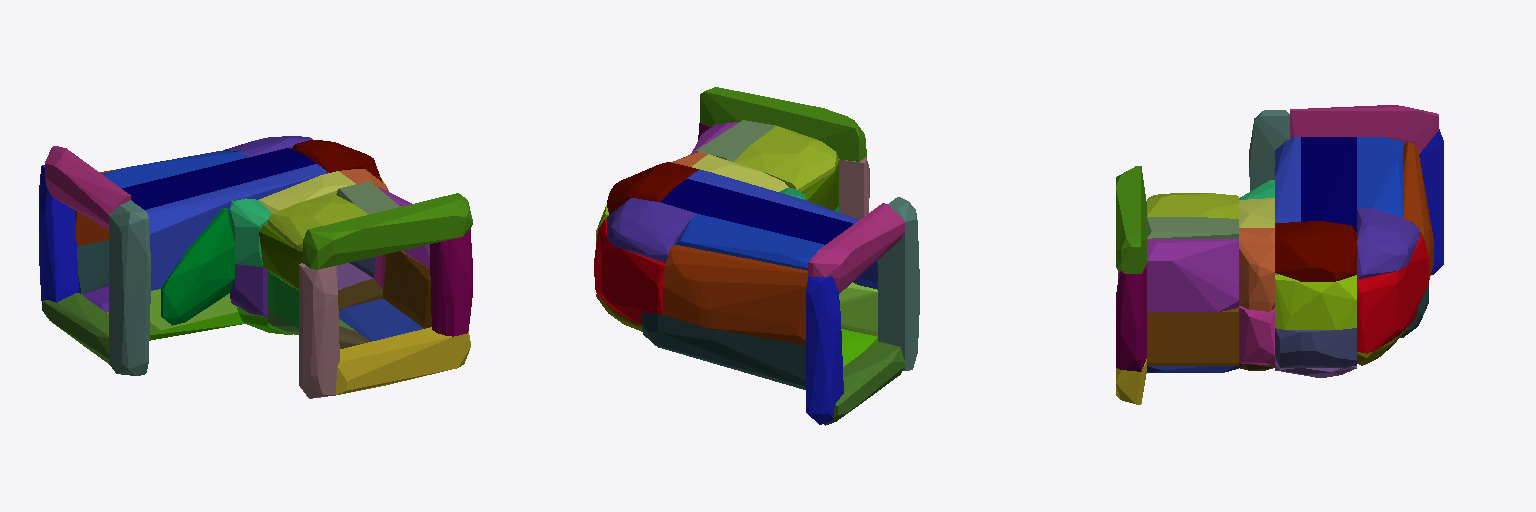
The model's file is zisb_cave_90_bend_1_GEOM.obj.
3 views of the same model, side by side, from view 1: azimuth 30°, elevation 25°; view 2: azimuth 150°, elevation 25°; view 3: azimuth 270°, elevation 25° (orthographic).
Parts seen in each view (by area): view 1: UCX_defaultobject_defaultobject_029, UCX_defaultobject_defaultobject_023, UCX_defaultobject_defaultobject_032, UCX_defaultobject_defaultobject_034, UCX_defaultobject_defaultobject_039, UCX_defaultobject_defaultobject_038, UCX_defaultobject_defaultobject_033, UCX_defaultobject_defaultobject_037, UCX_defaultobject_defaultobject_031, UCX_defaultobject_defaultobject_036, UCX_defaultobject_defaultobject_025, UCX_defaultobject_defaultobject_022 (+17 smaller); view 2: UCX_defaultobject_defaultobject_011, UCX_defaultobject_defaultobject_009, UCX_defaultobject_defaultobject_029, UCX_defaultobject_defaultobject_023, UCX_defaultobject_defaultobject_033, UCX_defaultobject_defaultobject_031, UCX_defaultobject_defaultobject_027, UCX_defaultobject_defaultobject_020, UCX_defaultobject_defaultobject_036, UCX_defaultobject_defaultobject_004, UCX_defaultobject_defaultobject_021, UCX_defaultobject_defaultobject_022 (+8 smaller); view 3: UCX_defaultobject_defaultobject_002, UCX_defaultobject_defaultobject_025, UCX_defaultobject_defaultobject_027, UCX_defaultobject_defaultobject_033, UCX_defaultobject_defaultobject_036, UCX_defaultobject_defaultobject_015, UCX_defaultobject_defaultobject_001, UCX_defaultobject_defaultobject_021, UCX_defaultobject_defaultobject_020, UCX_defaultobject_defaultobject_018, UCX_defaultobject_defaultobject_029, UCX_defaultobject_defaultobject_037 (+12 smaller).
Part boxes in pixels (bbox=[...]): UCX_defaultobject_defaultobject_029: bbox=[303, 193, 472, 269]; UCX_defaultobject_defaultobject_023: bbox=[109, 200, 150, 375]; UCX_defaultobject_defaultobject_032: bbox=[336, 327, 470, 394]; UCX_defaultobject_defaultobject_034: bbox=[145, 164, 328, 290]; UCX_defaultobject_defaultobject_039: bbox=[161, 208, 234, 325]; UCX_defaultobject_defaultobject_038: bbox=[299, 263, 339, 398]; UCX_defaultobject_defaultobject_033: bbox=[122, 148, 316, 209]; UCX_defaultobject_defaultobject_037: bbox=[430, 230, 472, 336]; UCX_defaultobject_defaultobject_031: bbox=[39, 165, 78, 302]; UCX_defaultobject_defaultobject_036: bbox=[45, 146, 131, 229]; UCX_defaultobject_defaultobject_025: bbox=[383, 251, 431, 328]; UCX_defaultobject_defaultobject_022: bbox=[42, 293, 108, 363]; UCX_defaultobject_defaultobject_011: bbox=[663, 245, 807, 344]; UCX_defaultobject_defaultobject_009: bbox=[641, 313, 805, 389]; UCX_defaultobject_defaultobject_029: bbox=[700, 87, 866, 161]; UCX_defaultobject_defaultobject_023: bbox=[878, 197, 919, 370]; UCX_defaultobject_defaultobject_033: bbox=[661, 179, 852, 244]; UCX_defaultobject_defaultobject_031: bbox=[806, 276, 843, 424]; UCX_defaultobject_defaultobject_027: bbox=[594, 219, 665, 323]; UCX_defaultobject_defaultobject_020: bbox=[675, 214, 824, 270]; UCX_defaultobject_defaultobject_036: bbox=[808, 203, 904, 293]; UCX_defaultobject_defaultobject_004: bbox=[734, 126, 838, 191]; UCX_defaultobject_defaultobject_021: bbox=[607, 198, 696, 263]; UCX_defaultobject_defaultobject_022: bbox=[824, 341, 904, 425]; UCX_defaultobject_defaultobject_002: bbox=[1147, 239, 1238, 311]; UCX_defaultobject_defaultobject_025: bbox=[1147, 308, 1238, 365]; UCX_defaultobject_defaultobject_027: bbox=[1357, 236, 1428, 353]; UCX_defaultobject_defaultobject_033: bbox=[1301, 137, 1356, 231]; UCX_defaultobject_defaultobject_036: bbox=[1290, 105, 1438, 153]; UCX_defaultobject_defaultobject_015: bbox=[1275, 221, 1356, 281]; UCX_defaultobject_defaultobject_001: bbox=[1275, 275, 1356, 329]; UCX_defaultobject_defaultobject_021: bbox=[1357, 208, 1418, 279]; UCX_defaultobject_defaultobject_020: bbox=[1357, 137, 1402, 217]; UCX_defaultobject_defaultobject_018: bbox=[1275, 328, 1356, 367]; UCX_defaultobject_defaultobject_029: bbox=[1116, 166, 1146, 273]; UCX_defaultobject_defaultobject_037: bbox=[1116, 264, 1146, 371].
Bounding box in the file's own units: 7.11 × 4.11 × 7.11.